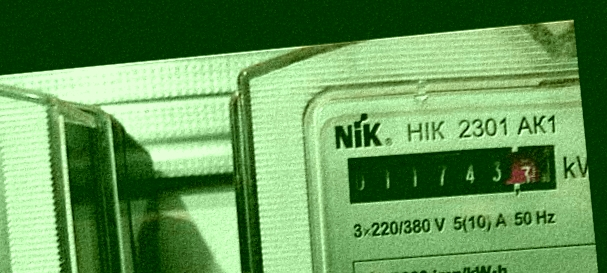0: (351, 165, 368, 193)
1: (378, 162, 395, 191), (406, 161, 422, 190)
3: (487, 157, 504, 185), (517, 164, 534, 186)
4: (461, 160, 478, 186)
7: (433, 161, 450, 187)
screen: (337, 132, 568, 217)
